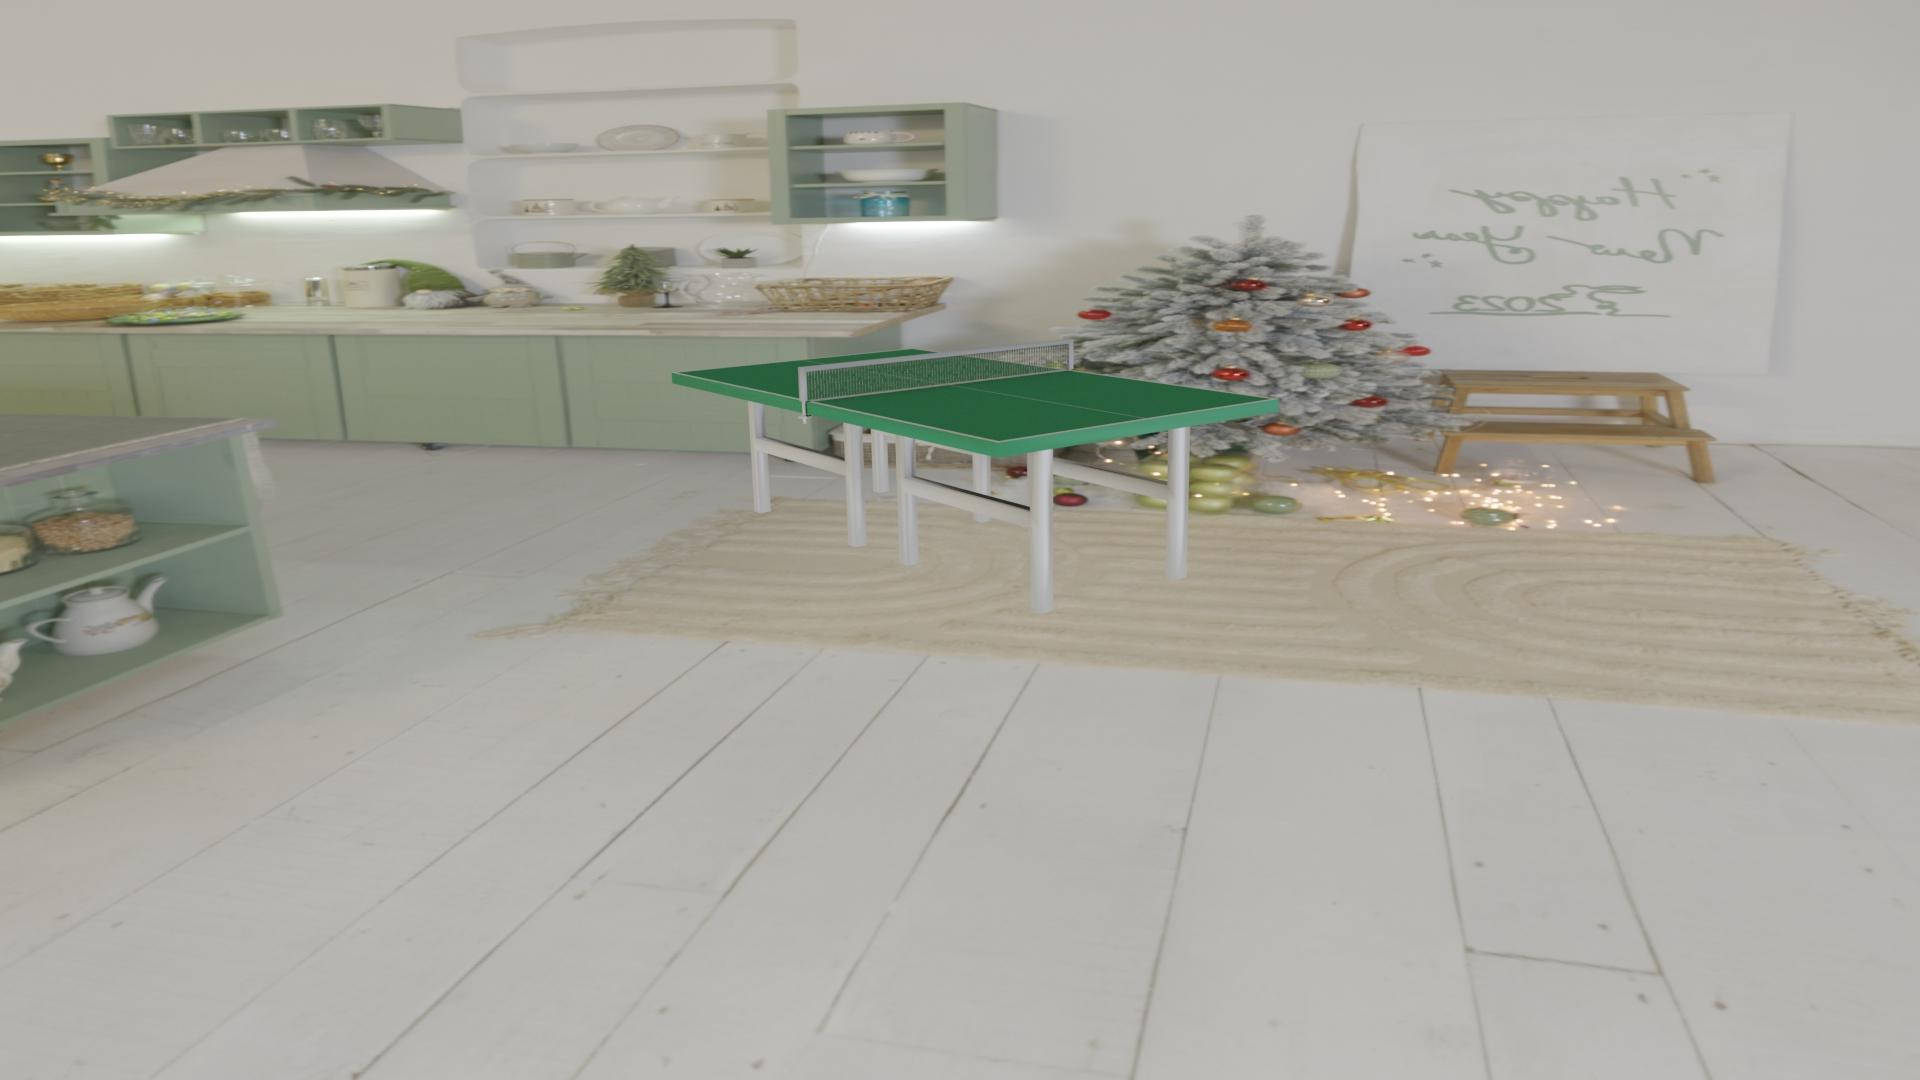table: (676, 348, 1273, 442)
